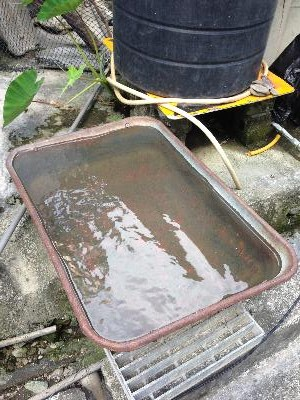box: (12, 115, 296, 349)
bucket: (109, 1, 279, 101)
